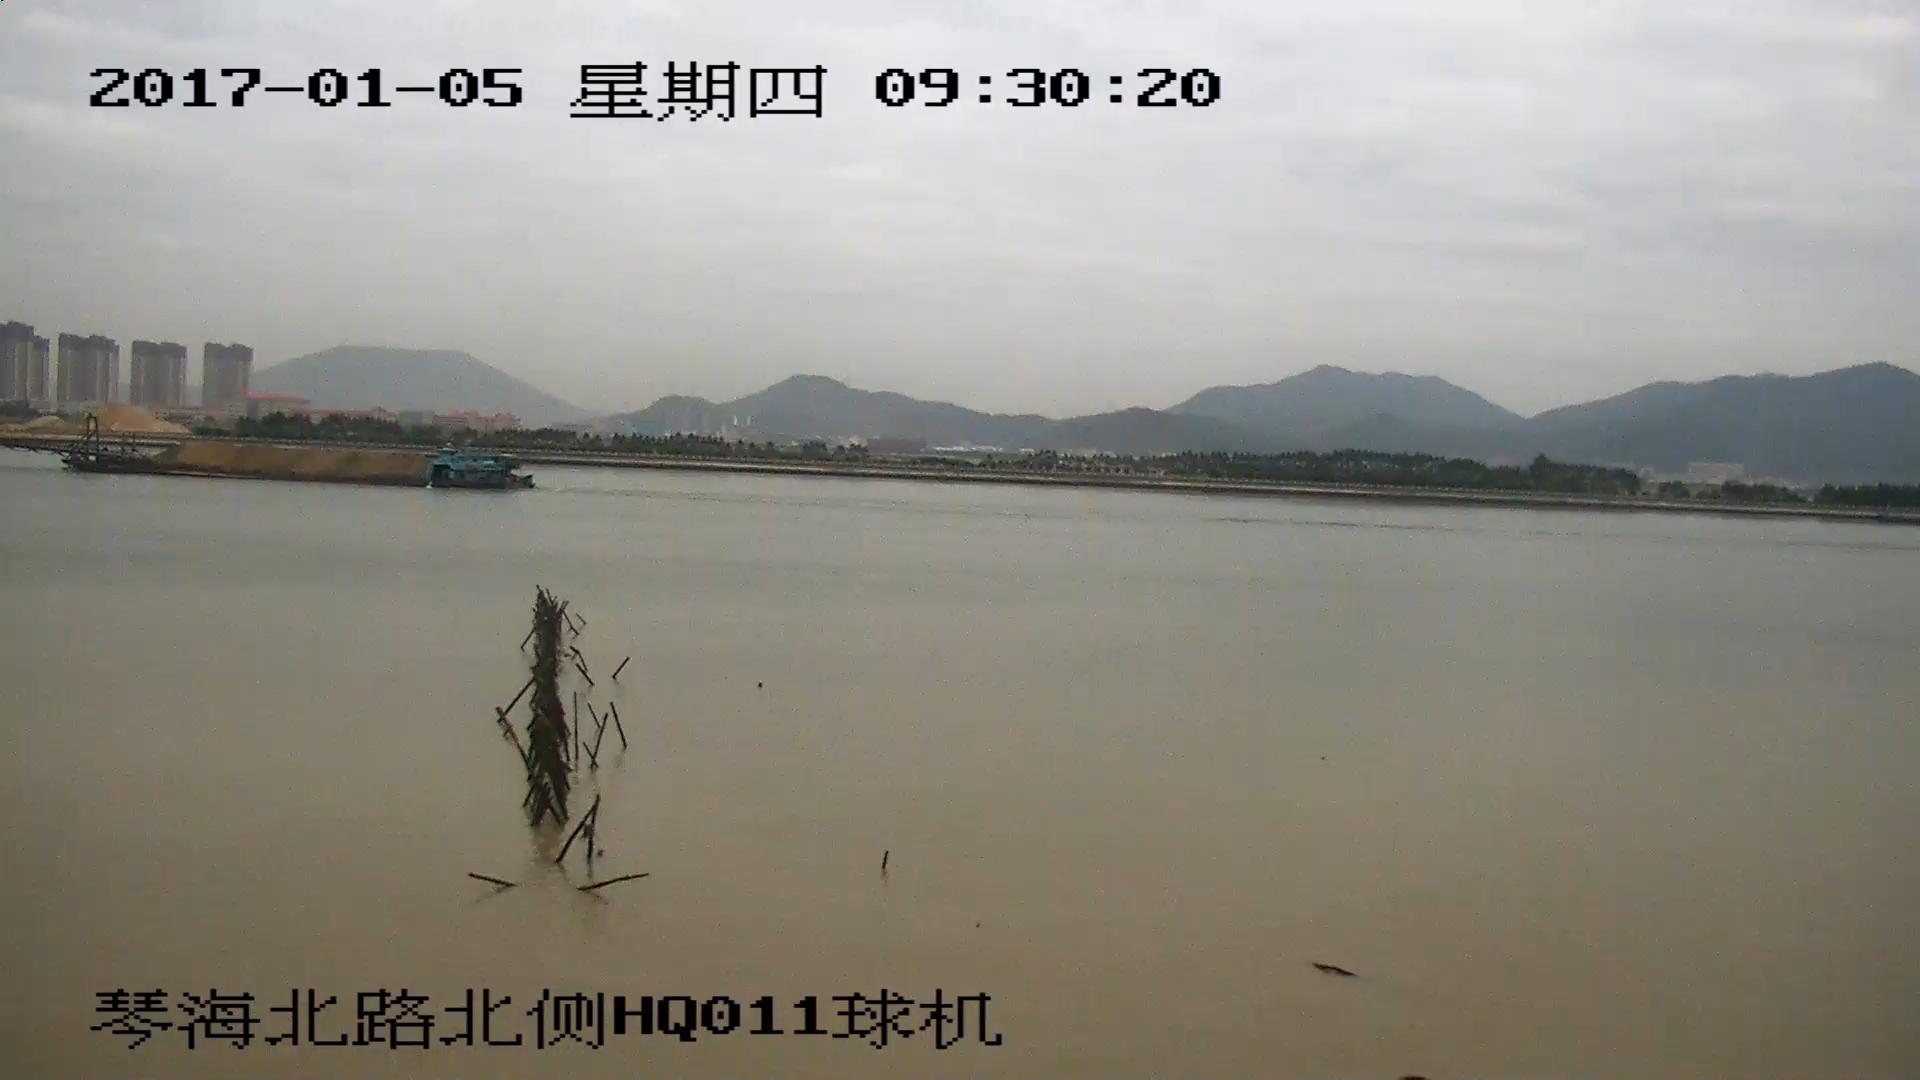ore carrier: (1, 420, 526, 490)
